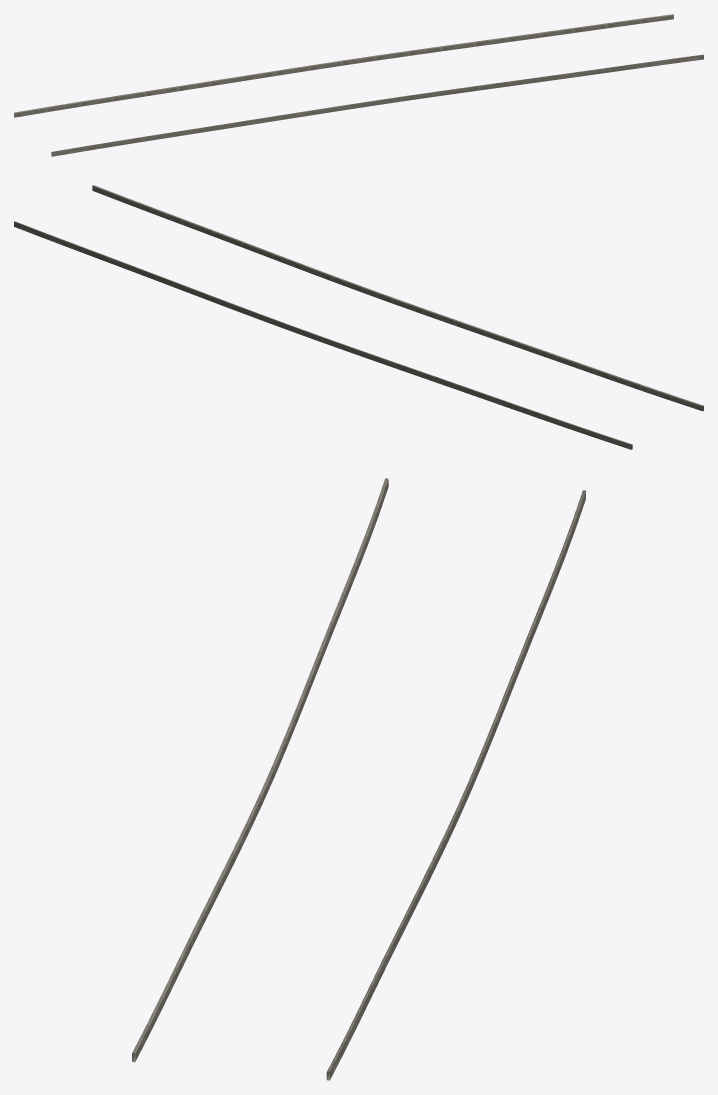
Rendered from SM_Curb_04.fbx.
3 views of the same model, one above another, from view 1: azimuth 30°, elevation 25°; view 2: azimuth 150°, elevation 25°; view 3: azimuth 270°, elevation 25° (orthographic). The views are drawn at different scales.
Visible parts, largest first — view 1: SM_Curb_04; view 2: SM_Curb_04; view 3: SM_Curb_04.
Boxes of the visible parts, x1=… form: SM_Curb_04: x1=14, y1=14, x2=703, y2=156; SM_Curb_04: x1=14, y1=185, x2=703, y2=449; SM_Curb_04: x1=132, y1=478, x2=585, y2=1080.
Bounding box in the file's own units: 10737 × 3471 × 75.03.
1 material, 1 textured.
